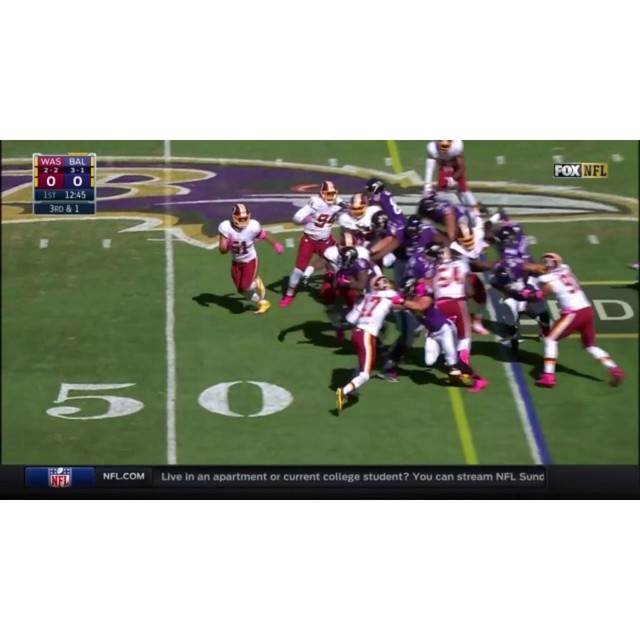american-football-player: (533, 252, 625, 389), (330, 275, 405, 412), (426, 243, 487, 388), (280, 189, 346, 307), (217, 203, 282, 313), (421, 140, 475, 204)
